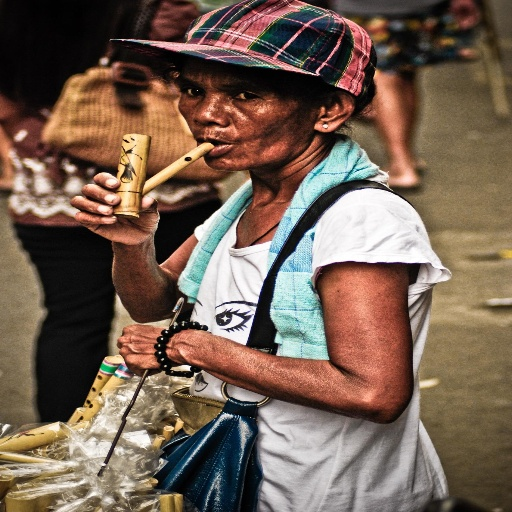hand: (68, 168, 163, 248), (114, 321, 196, 366)
